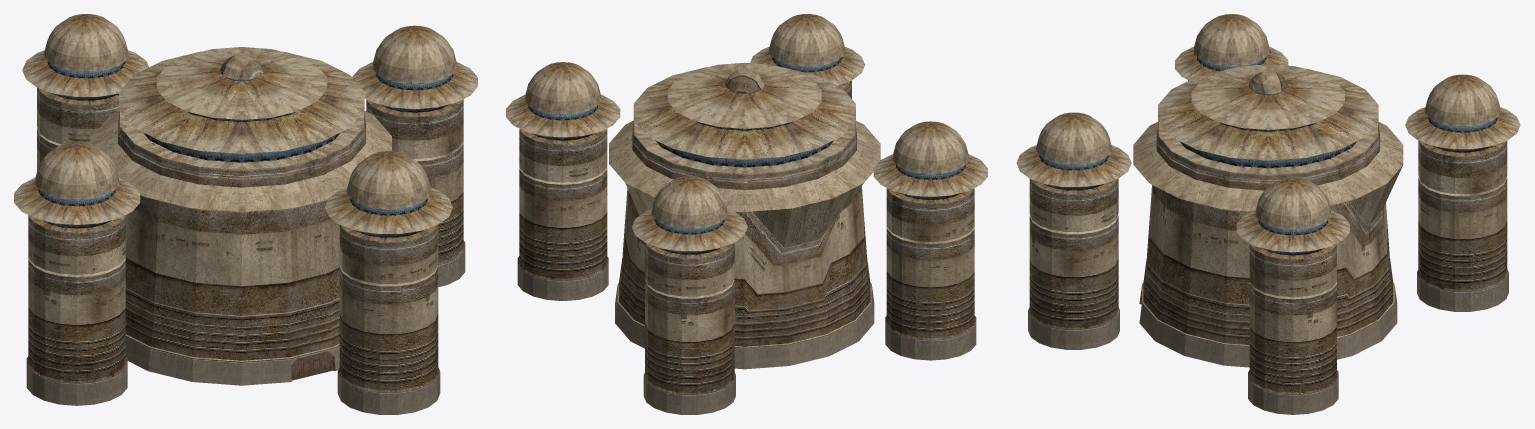
File: eaw_huttPalace2.glb
3 views of the same model, side by side, from view 1: azimuth 30°, elevation 25°; view 2: azimuth 150°, elevation 25°; view 3: azimuth 270°, elevation 25° (orthographic). The views are drawn at different scales.
Parts seen in each view (by area): view 1: HuttPalace_ALT0_0; view 2: HuttPalace_ALT0_0; view 3: HuttPalace_ALT0_0.
Part boxes in pixels (bbox=[...]): HuttPalace_ALT0_0: bbox=[14, 14, 477, 414]; HuttPalace_ALT0_0: bbox=[506, 14, 987, 414]; HuttPalace_ALT0_0: bbox=[1016, 14, 1520, 414].
Bounding box in the file's own units: 78.78 × 41.74 × 79.16.
Materials: 1 (1 with a texture image).
